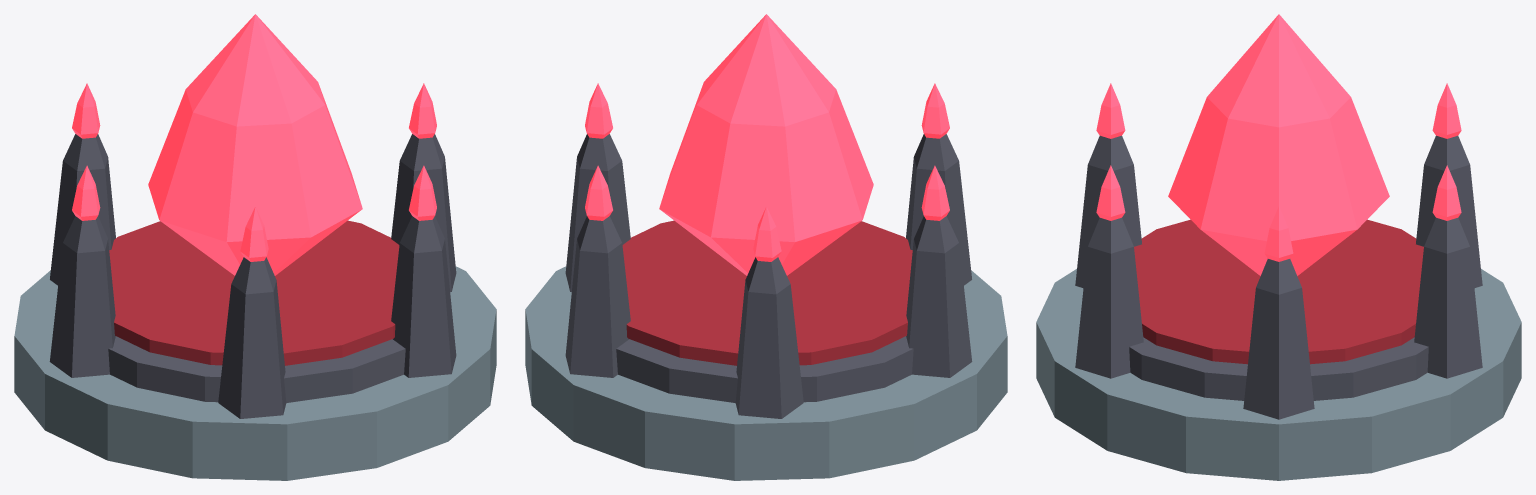
File: tenebra_core_candidate.glb
3 renders of one model, left to right at view 1: azimuth 30°, elevation 25°; view 2: azimuth 150°, elevation 25°; view 3: azimuth 270°, elevation 25°, orthographic.
Visible parts, largest first — view 1: tenebra_core; view 2: tenebra_core; view 3: tenebra_core.
Part boxes in pixels (x1,y1,x2,y2): tenebra_core: (14, 14, 496, 480); tenebra_core: (525, 14, 1007, 480); tenebra_core: (1036, 14, 1521, 480).
Bounding box in the file's own units: 7 × 5.8 × 7.
